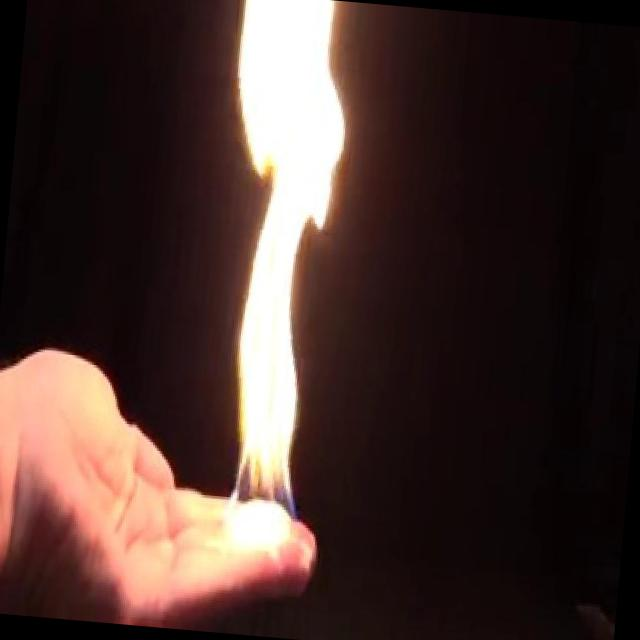Fire: (182, 0, 358, 550)
